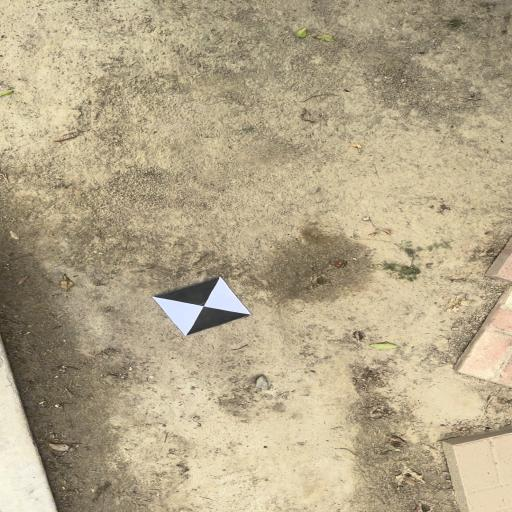target: (153, 278, 252, 334)
